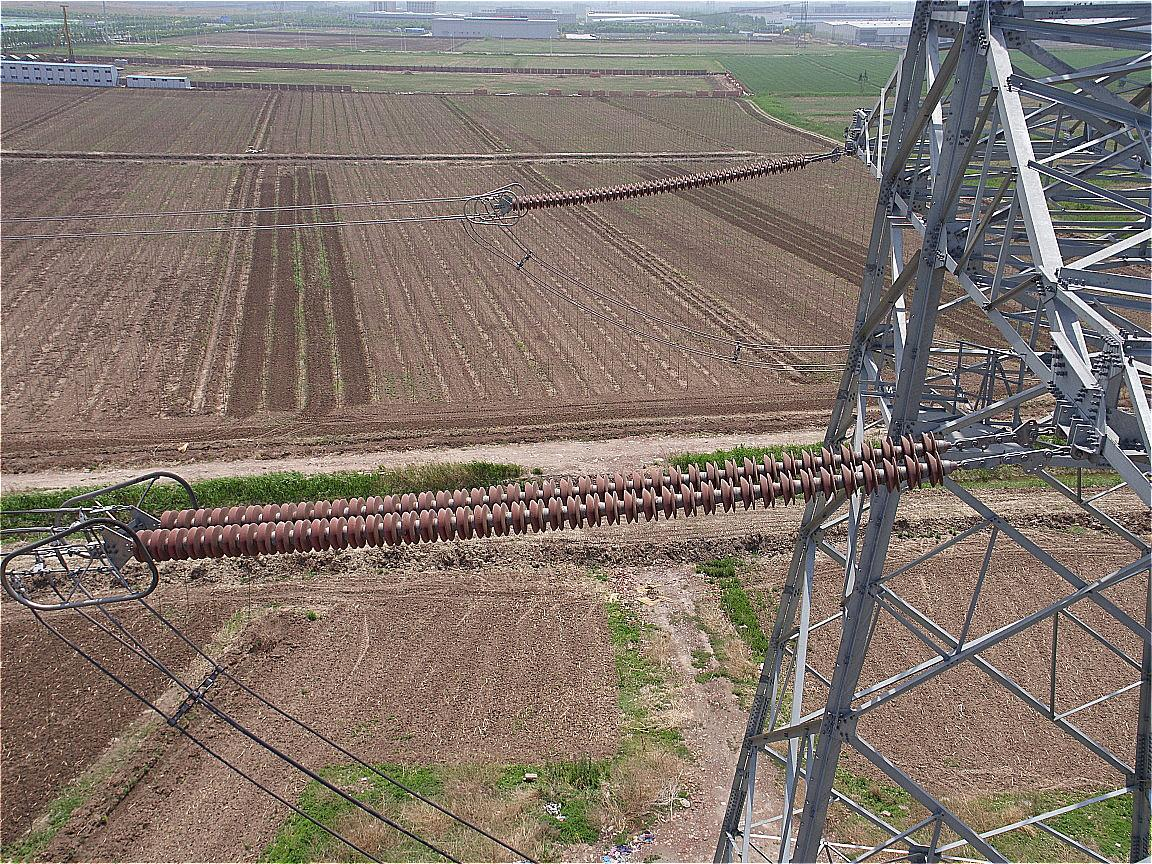insultor2: (131, 429, 945, 563), (514, 154, 808, 212)
